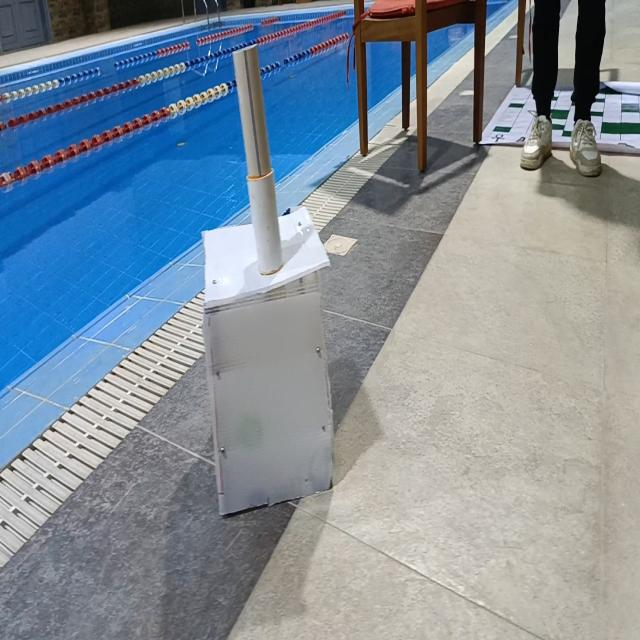Cube: (200, 206, 334, 517)
